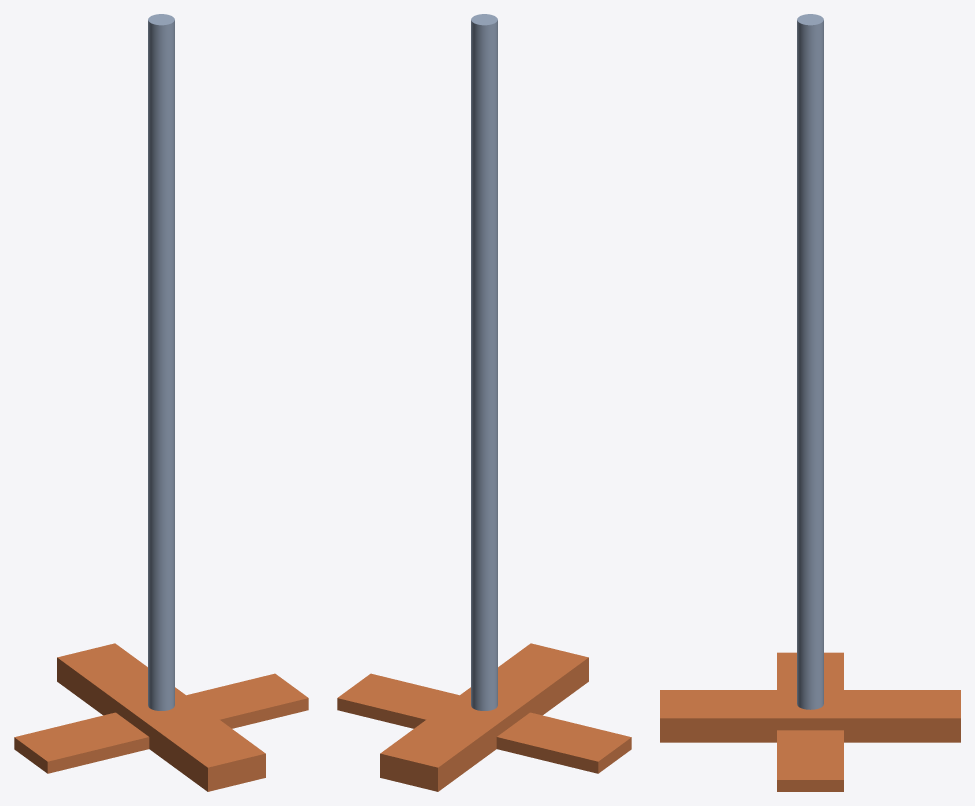
Rendered from festivusPole.fbx.
3 views of the same model, side by side, from view 1: azimuth 30°, elevation 25°; view 2: azimuth 150°, elevation 25°; view 3: azimuth 270°, elevation 25° (orthographic).
Visible parts, largest first — view 1: festivusPole; view 2: festivusPole; view 3: festivusPole.
Part boxes in pixels (x1=…): festivusPole: x1=14, y1=14, x2=308, y2=791; festivusPole: x1=337, y1=14, x2=631, y2=791; festivusPole: x1=660, y1=14, x2=960, y2=791.
Bounding box in the file's own units: 4.5 × 11.7 × 4.5.
